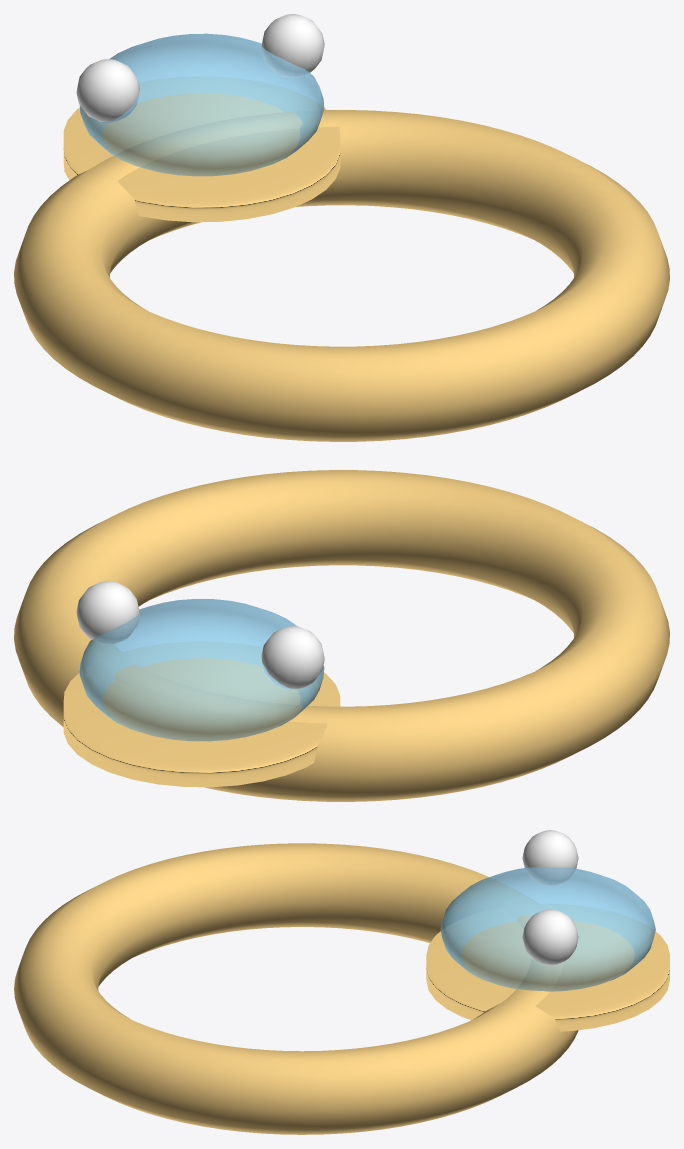
The model's file is ar_ring_gold_gem.glb.
3 renders of one model, top to bottom at view 1: azimuth 30°, elevation 25°; view 2: azimuth 150°, elevation 25°; view 3: azimuth 270°, elevation 25°, orthographic. The views are drawn at different scales.
Parts seen in each view (by area): view 1: ring_polished_band, ring_round_gem, ring_gem_setting, ring_small_highlight, ring_small_highlight.001; view 2: ring_polished_band, ring_round_gem, ring_gem_setting, ring_small_highlight, ring_small_highlight.001; view 3: ring_polished_band, ring_round_gem, ring_gem_setting, ring_small_highlight.001, ring_small_highlight.
Part boxes in pixels (left/top/right/bottom): ring_polished_band: left=14, top=110, right=669, bottom=441; ring_round_gem: left=79, top=33, right=324, bottom=176; ring_gem_setting: left=63, top=93, right=340, bottom=222; ring_small_highlight: left=76, top=59, right=139, bottom=122; ring_small_highlight.001: left=261, top=14, right=324, bottom=77; ring_polished_band: left=14, top=470, right=669, bottom=801; ring_round_gem: left=79, top=599, right=324, bottom=741; ring_gem_setting: left=63, top=658, right=340, bottom=787; ring_small_highlight: left=261, top=626, right=324, bottom=689; ring_small_highlight.001: left=76, top=581, right=139, bottom=644; ring_polished_band: left=14, top=843, right=578, bottom=1134; ring_round_gem: left=440, top=867, right=655, bottom=991; ring_gem_setting: left=426, top=920, right=669, bottom=1031; ring_small_highlight.001: left=522, top=909, right=578, bottom=965; ring_small_highlight: left=522, top=830, right=578, bottom=885.
Size of the model in its own units: 0.0246 by 0.00721 by 0.028.
